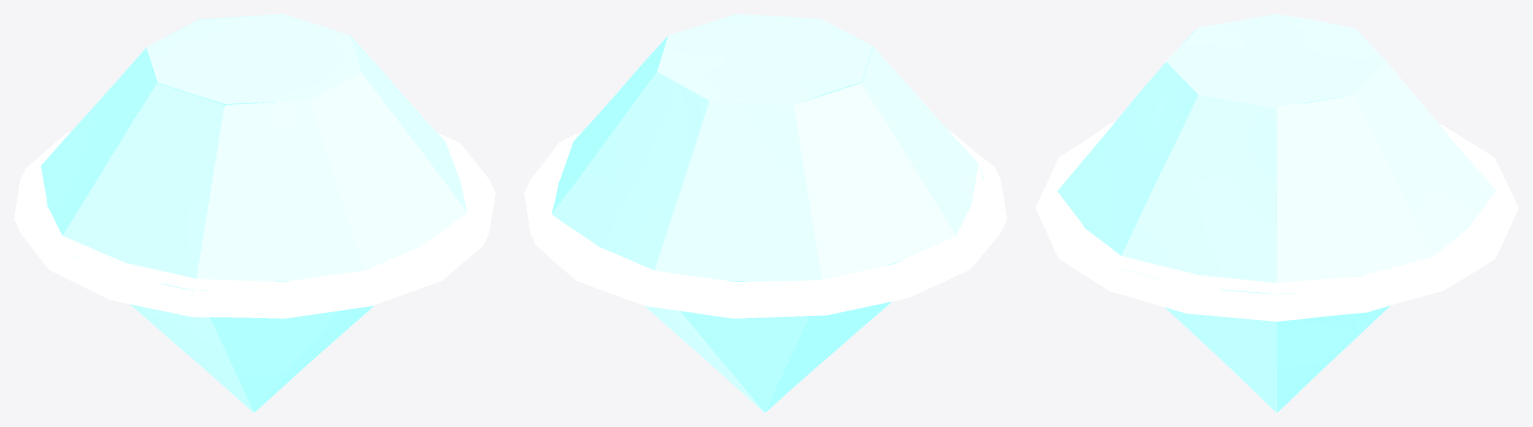
File: crystal3.glb
The picture shows the model from 3 angles, left to right: view 1: azimuth 30°, elevation 25°; view 2: azimuth 150°, elevation 25°; view 3: azimuth 270°, elevation 25°; orthographic projection.
Visible parts, largest first — view 1: JewelCrown; view 2: JewelCrown; view 3: JewelCrown.
Part boxes in pixels (left/top/right/bottom): JewelCrown: left=14, top=14, right=495, bottom=412; JewelCrown: left=524, top=14, right=1006, bottom=412; JewelCrown: left=1035, top=14, right=1518, bottom=412.
Bounding box in the file's own units: 1.92 × 1.54 × 1.92.
